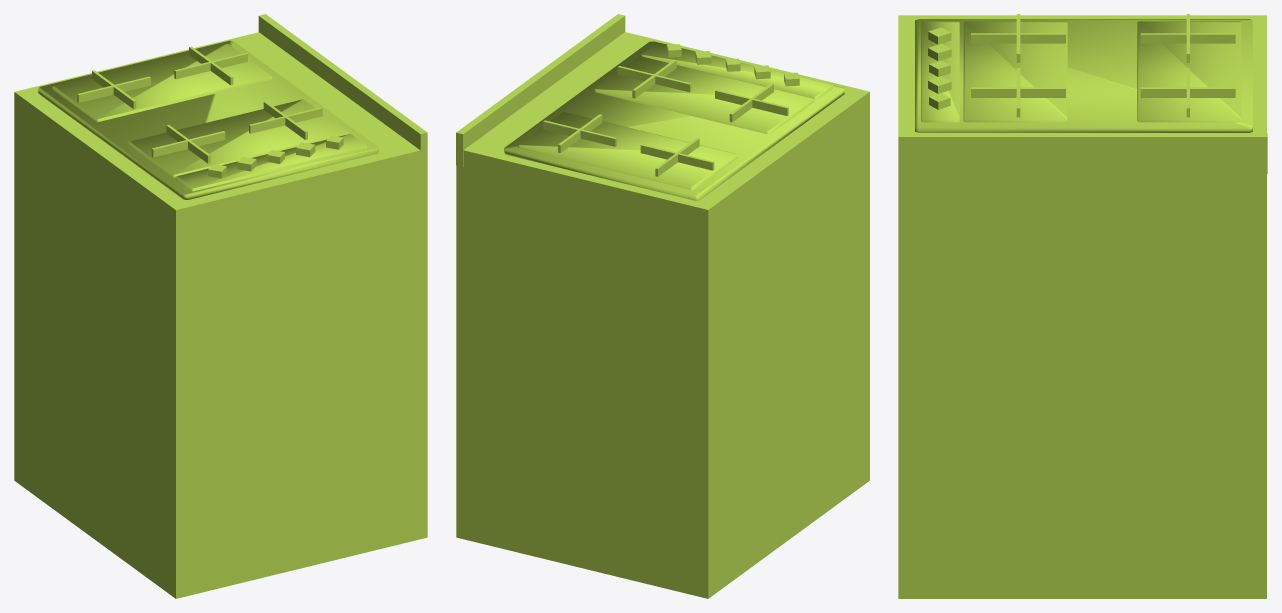
File: table_cook_frying_convex.fbx
3 renders of one model, left to right at view 1: azimuth 30°, elevation 25°; view 2: azimuth 150°, elevation 25°; view 3: azimuth 270°, elevation 25°, orthographic. The views are drawn at different scales.
Visible parts, largest first — view 1: table_cook_1_convex.004, table_cook_frying.001, table_cook_frying.002, table_cook_frying.003, table_cook_1_convex.005, table_cook_frying.004, Cube.016, Cube.005, Cube.018, Cube.021; view 2: table_cook_1_convex.004, table_cook_frying.001, table_cook_frying.002, table_cook_frying.003, table_cook_1_convex.005, table_cook_frying.004, Cube.016, Cube.018, Cube.021, Cube.005; view 3: table_cook_1_convex.004, table_cook_1_convex.005, table_cook_frying.001, table_cook_frying.002, table_cook_frying.003, table_cook_frying.004, Cube.017, Cube.020, Cube.001, Cube.006.
Boxes of the visible parts, bbox=[...] form: table_cook_1_convex.004: bbox=[14, 32, 427, 598]; table_cook_frying.001: bbox=[38, 40, 378, 199]; table_cook_frying.002: bbox=[52, 44, 272, 121]; table_cook_frying.003: bbox=[128, 99, 348, 177]; table_cook_1_convex.005: bbox=[258, 14, 427, 165]; table_cook_frying.004: bbox=[175, 134, 367, 191]; Cube.016: bbox=[249, 107, 322, 133]; Cube.005: bbox=[151, 131, 225, 157]; Cube.018: bbox=[77, 76, 150, 102]; Cube.021: bbox=[174, 53, 247, 79]; table_cook_1_convex.004: bbox=[456, 32, 869, 598]; table_cook_frying.001: bbox=[504, 41, 844, 200]; table_cook_frying.002: bbox=[518, 112, 738, 190]; table_cook_frying.003: bbox=[594, 56, 814, 134]; table_cook_1_convex.005: bbox=[456, 14, 625, 166]; table_cook_frying.004: bbox=[641, 42, 833, 99]; Cube.016: bbox=[617, 66, 691, 92]; Cube.018: bbox=[640, 144, 714, 170]; Cube.021: bbox=[543, 120, 616, 146]; Cube.005: bbox=[715, 89, 788, 115]; table_cook_1_convex.004: bbox=[898, 15, 1266, 598]; table_cook_1_convex.005: bbox=[898, 133, 1267, 173]; table_cook_frying.001: bbox=[915, 19, 1252, 132]; table_cook_frying.002: bbox=[1137, 21, 1241, 122]; table_cook_frying.003: bbox=[963, 21, 1067, 122]; table_cook_frying.004: bbox=[921, 21, 959, 122]; Cube.017: bbox=[1140, 33, 1235, 43]; Cube.020: bbox=[1140, 87, 1235, 97]; Cube.001: bbox=[971, 33, 1065, 43]; Cube.006: bbox=[971, 87, 1065, 97].
Bounding box in the file's own units: 17.11 × 19.07 × 26.31.
